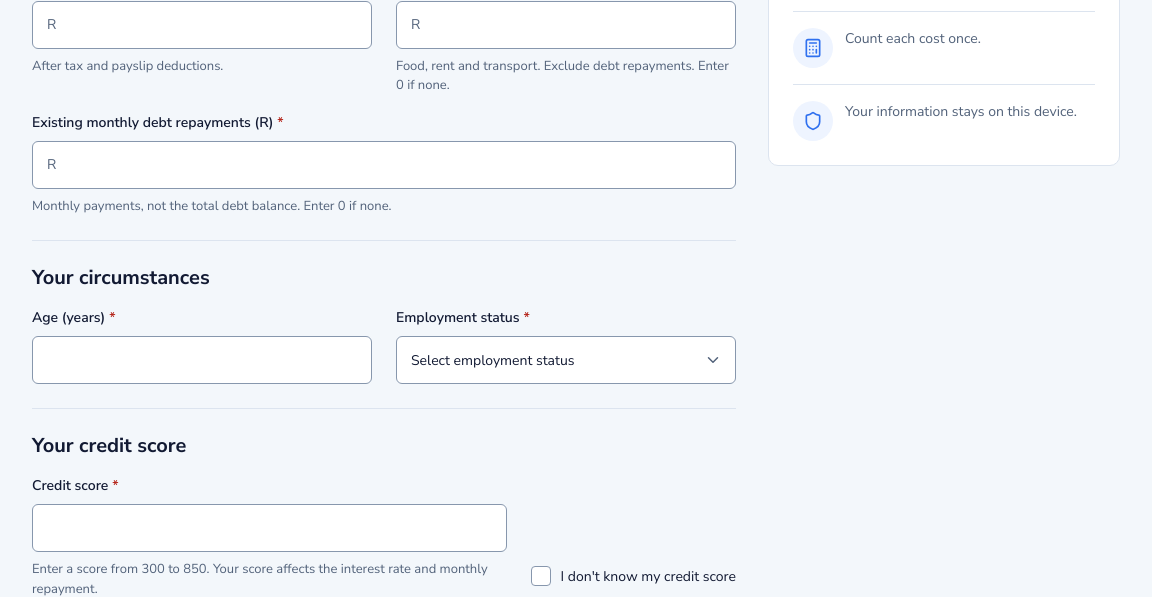
Test: YourBudgetScreen › shows business duration for self-employed and income duration for rental income
The image size is (1152, 597).
(page scrolled)
Select "Self-employed" in the dropdown labelled "Employment status *": x=566, y=360 [396,336,736,384]
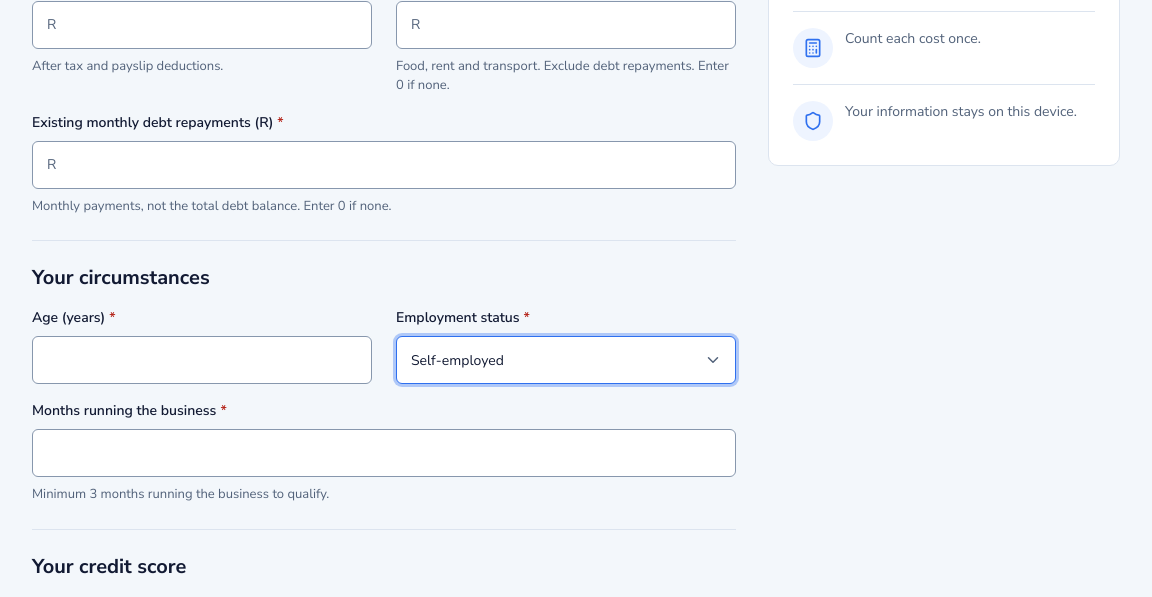
Result: the field labelled "Months running the business *" is shown at [32,429,736,477]
Select "Retired" in the dropdown labelled "Employment status *": x=566, y=360 [396,336,736,384]
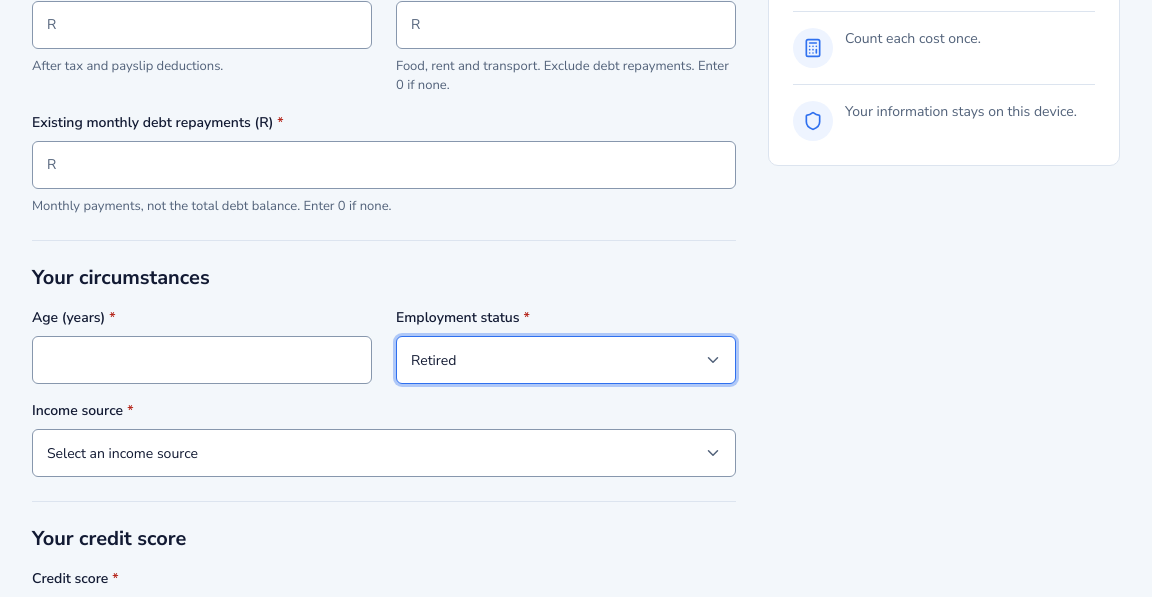
Select "Rental income" in the dropdown labelled "Income source *": x=384, y=453 [32,429,736,477]
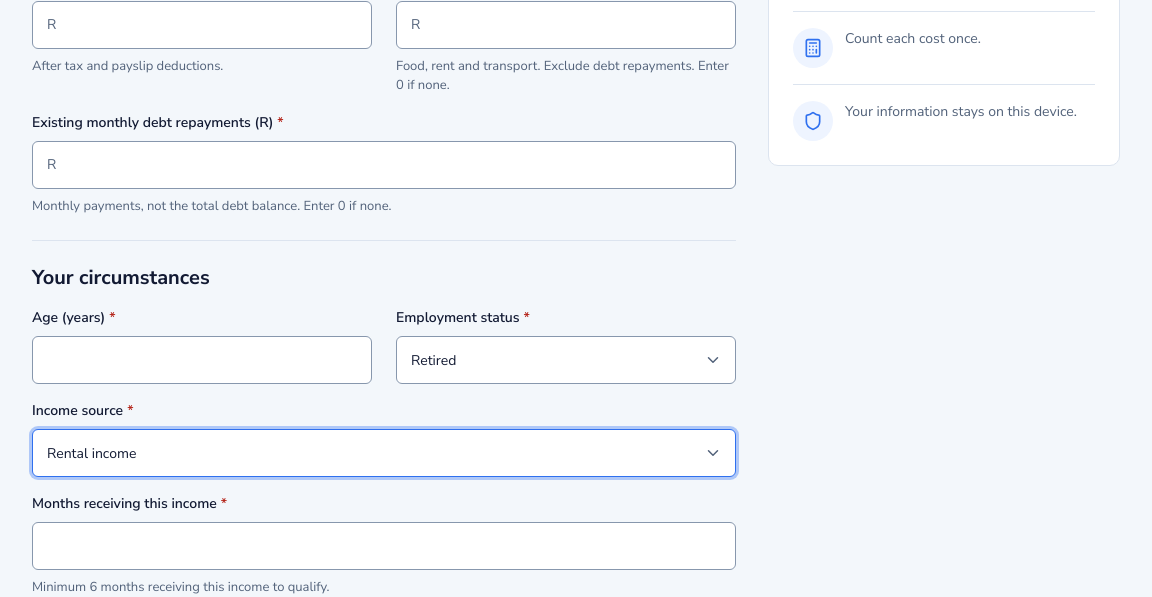
Result: the field labelled "Months receiving this income *" is shown at [32,522,736,570]
